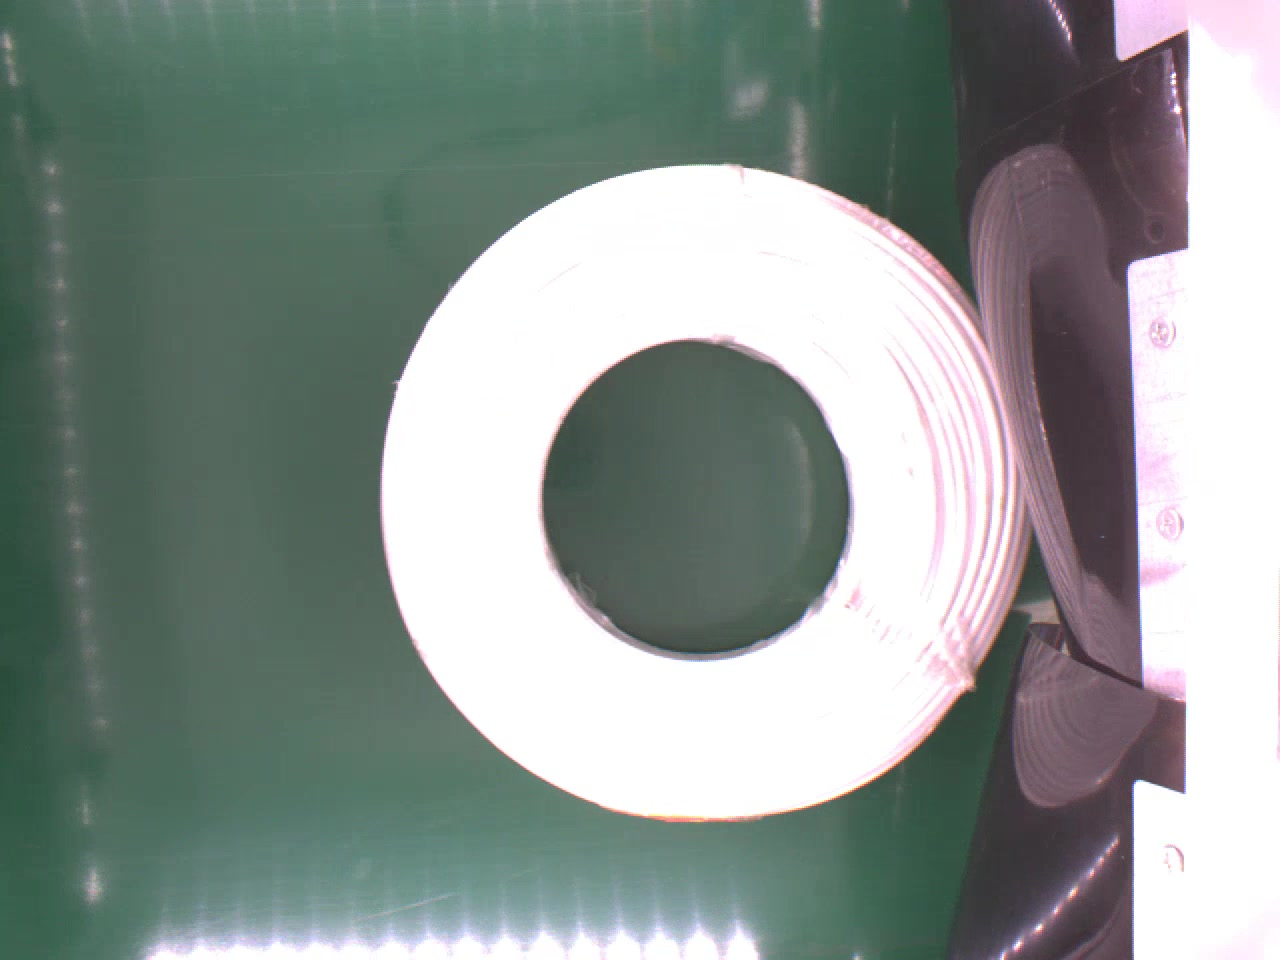white: (384, 159, 1043, 820)
